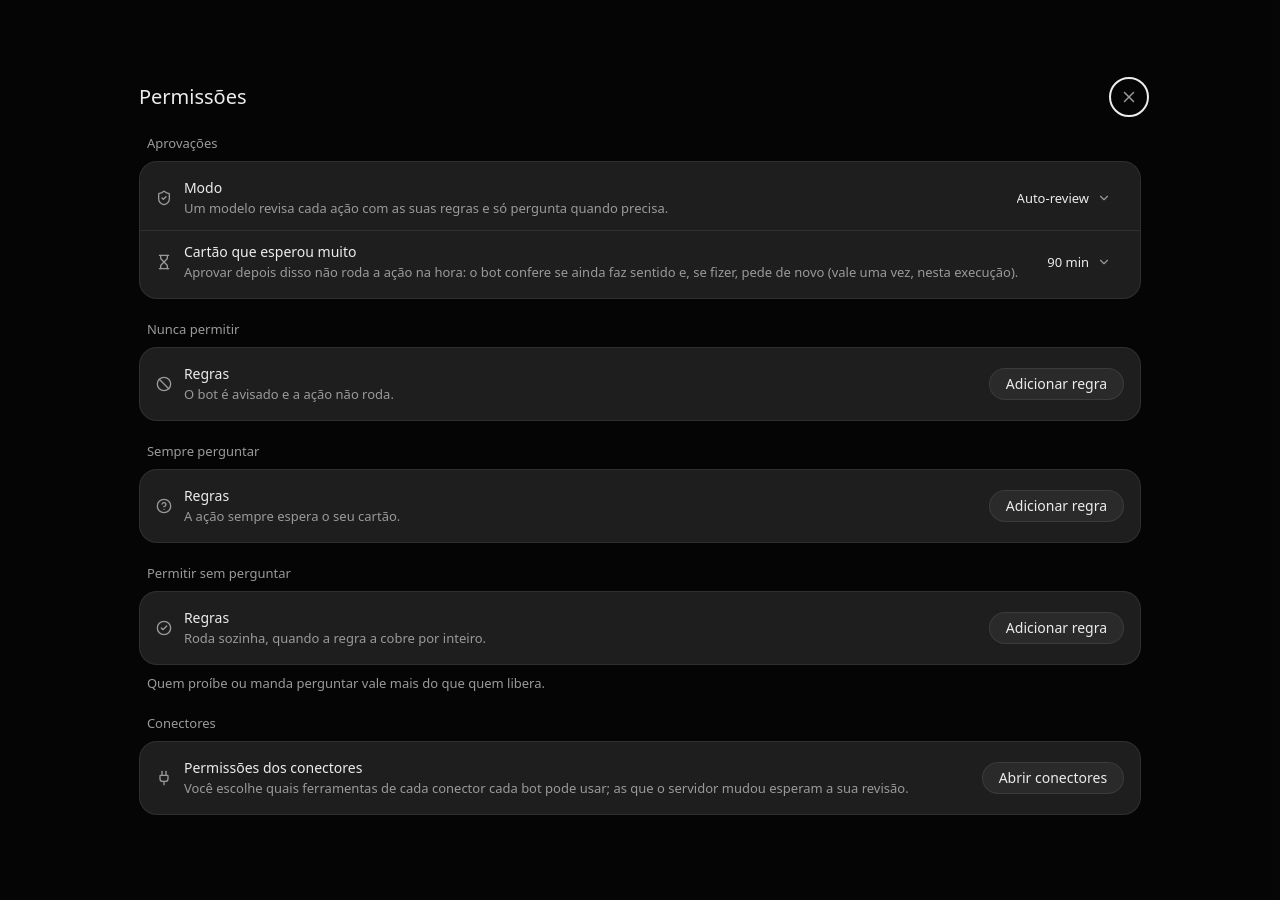
Test: Permissões: the card that waited too long › shows the server's limit in a Dropdown with the owner's five choices; the current one is added when it is another
Click the dropdown with test id "approval-stale": {"x": 1079, "y": 262} [1034,246,1124,278]
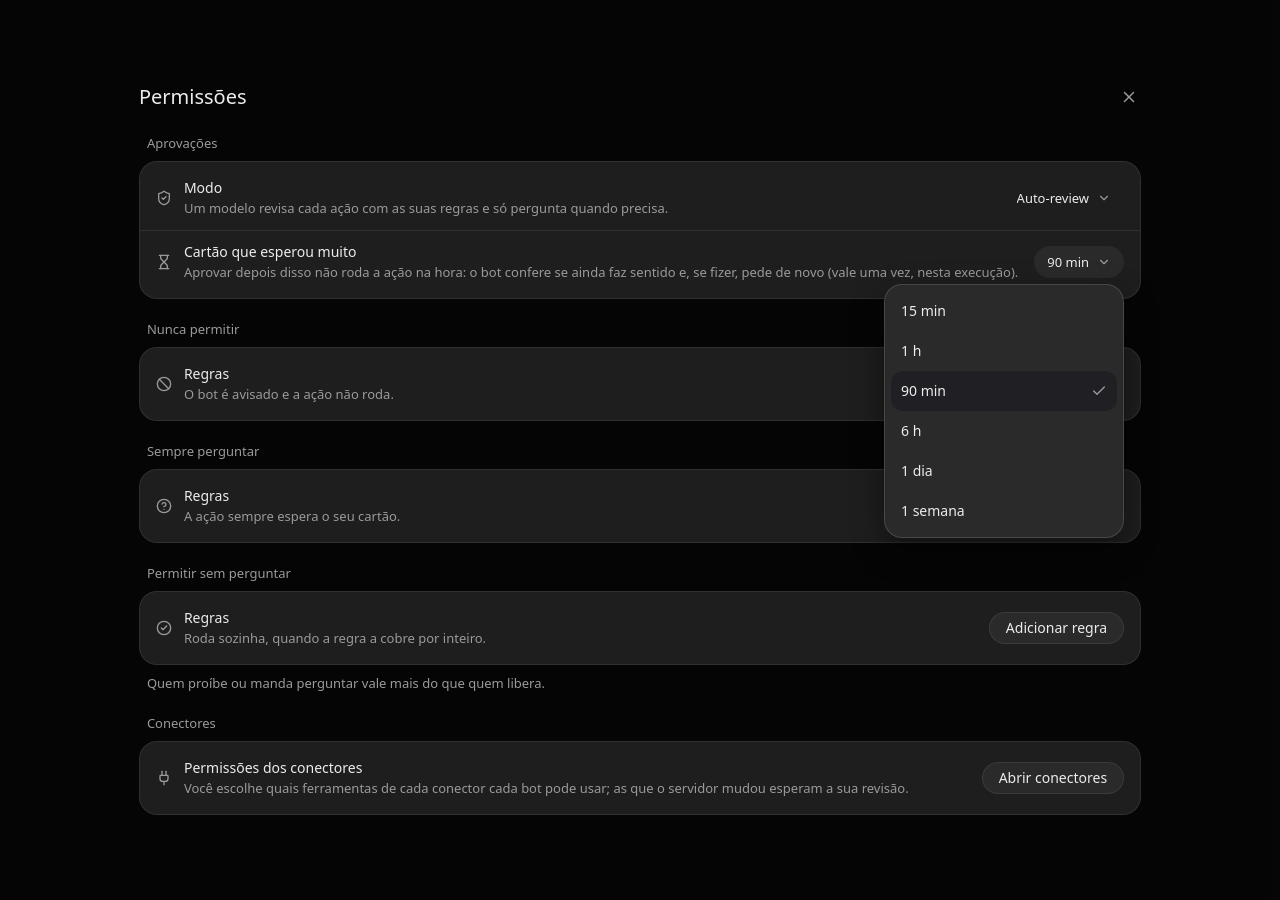
expect the options read "15 min", "1 h", "90 min", "6 h", "1 dia", "1 semana", in this order: met, box [901,301,946,320]; [901,341,921,360]; [891,371,1117,411]; [901,421,921,440]; [901,461,933,480]; [901,501,965,520]
